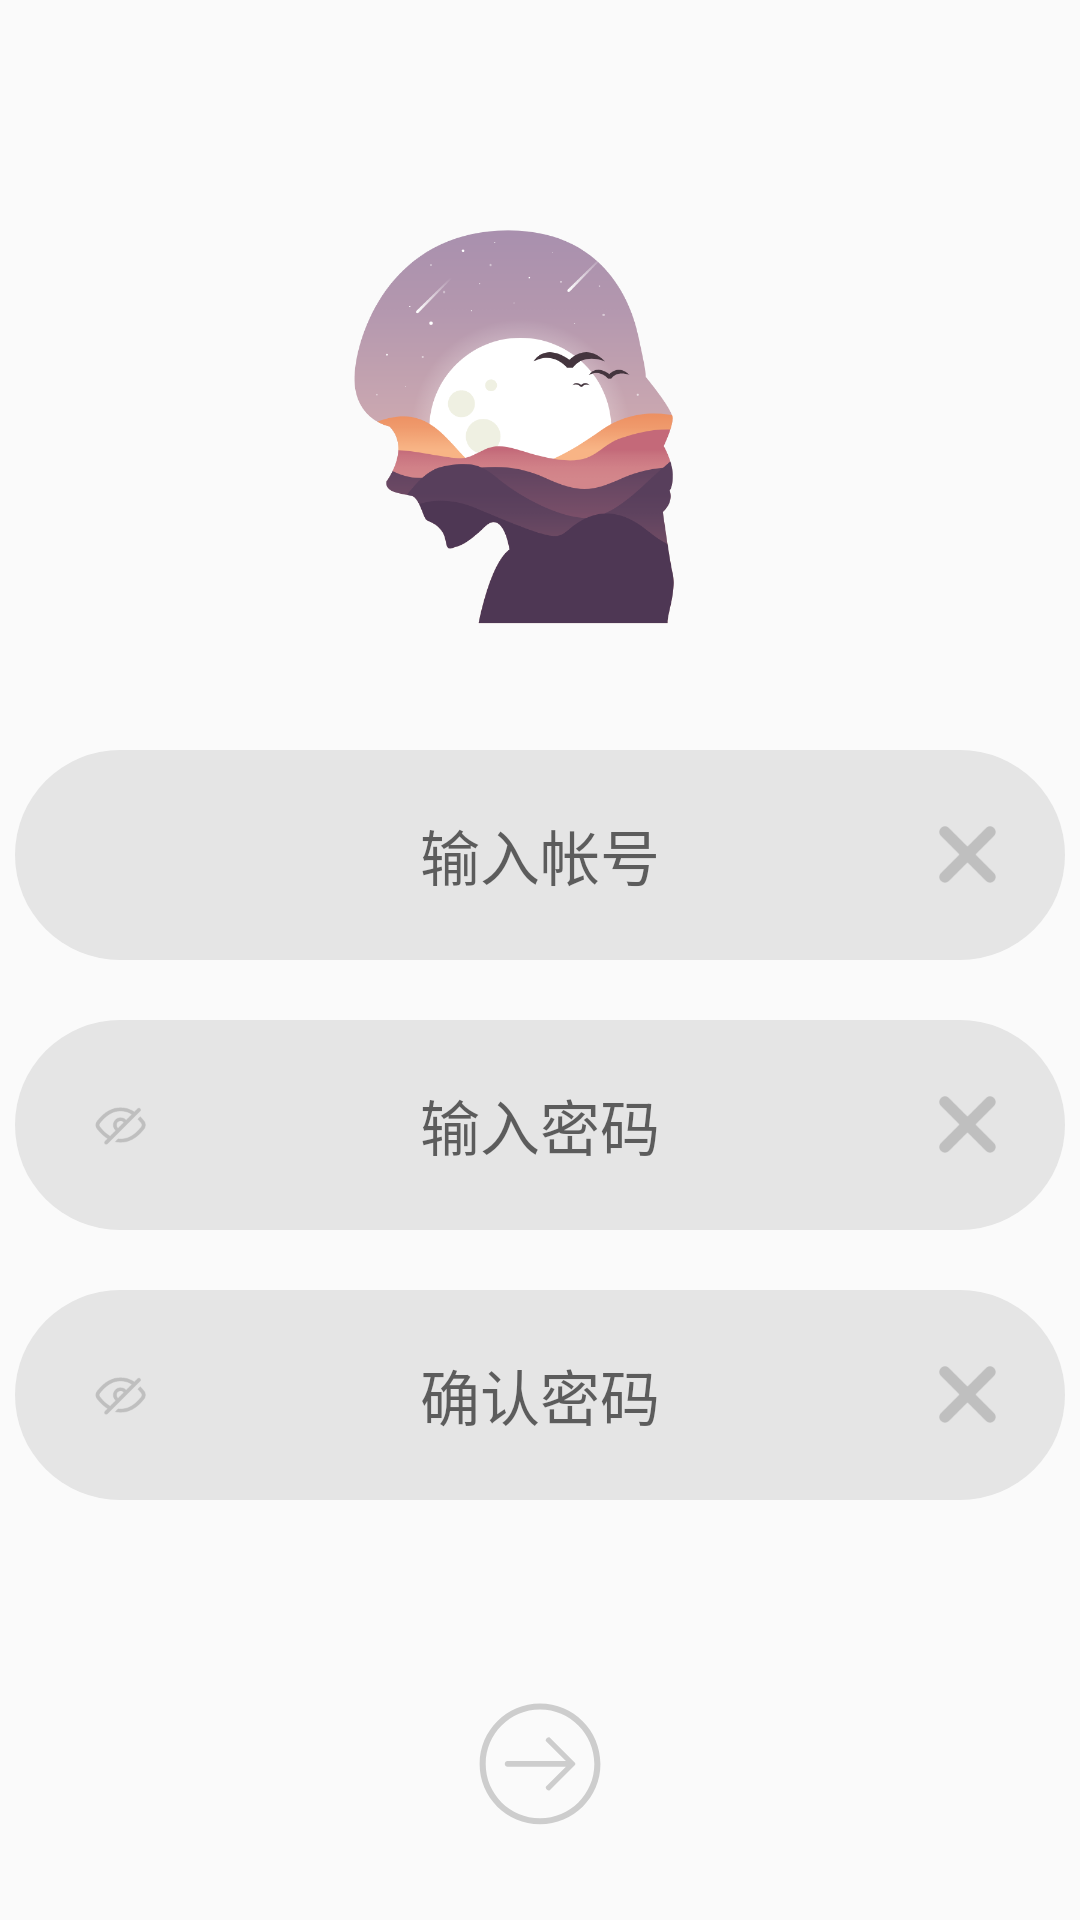

Point at icon controls on the screen. Image size 1080*1920, points as point (x, y).
delete: point (967, 854), point (967, 1124), point (967, 1394)
login: point (540, 1764)
nosee: point (120, 1126), point (120, 1396)
